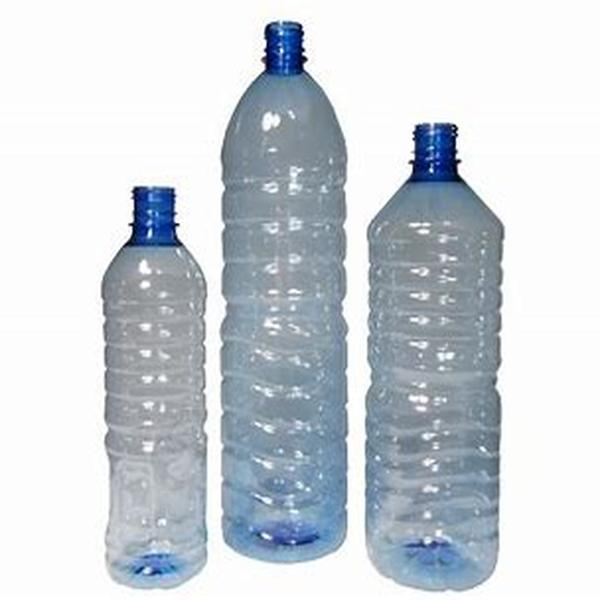tutuma: (216, 15, 356, 582), (361, 105, 513, 596), (95, 172, 209, 593)
